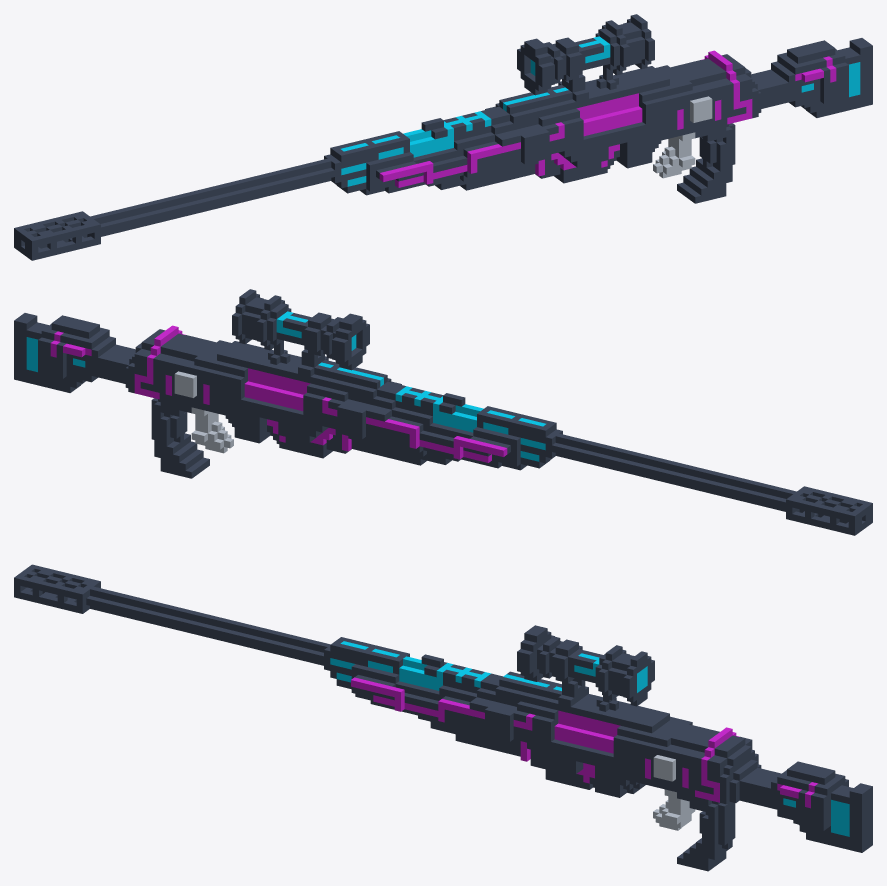
The model's file is Paradox RIfle.obj.
3 views of the same model, one above another, from view 1: azimuth 30°, elevation 25°; view 2: azimuth 150°, elevation 25°; view 3: azimuth 330°, elevation 25° (orthographic).
Size of the model in its own units: 13.5 by 2.9 by 1.1.
1 material, 1 textured.
